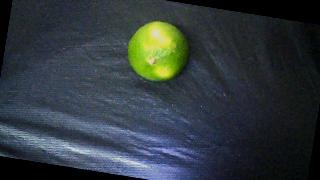LOCAL: (124, 17, 193, 86)
